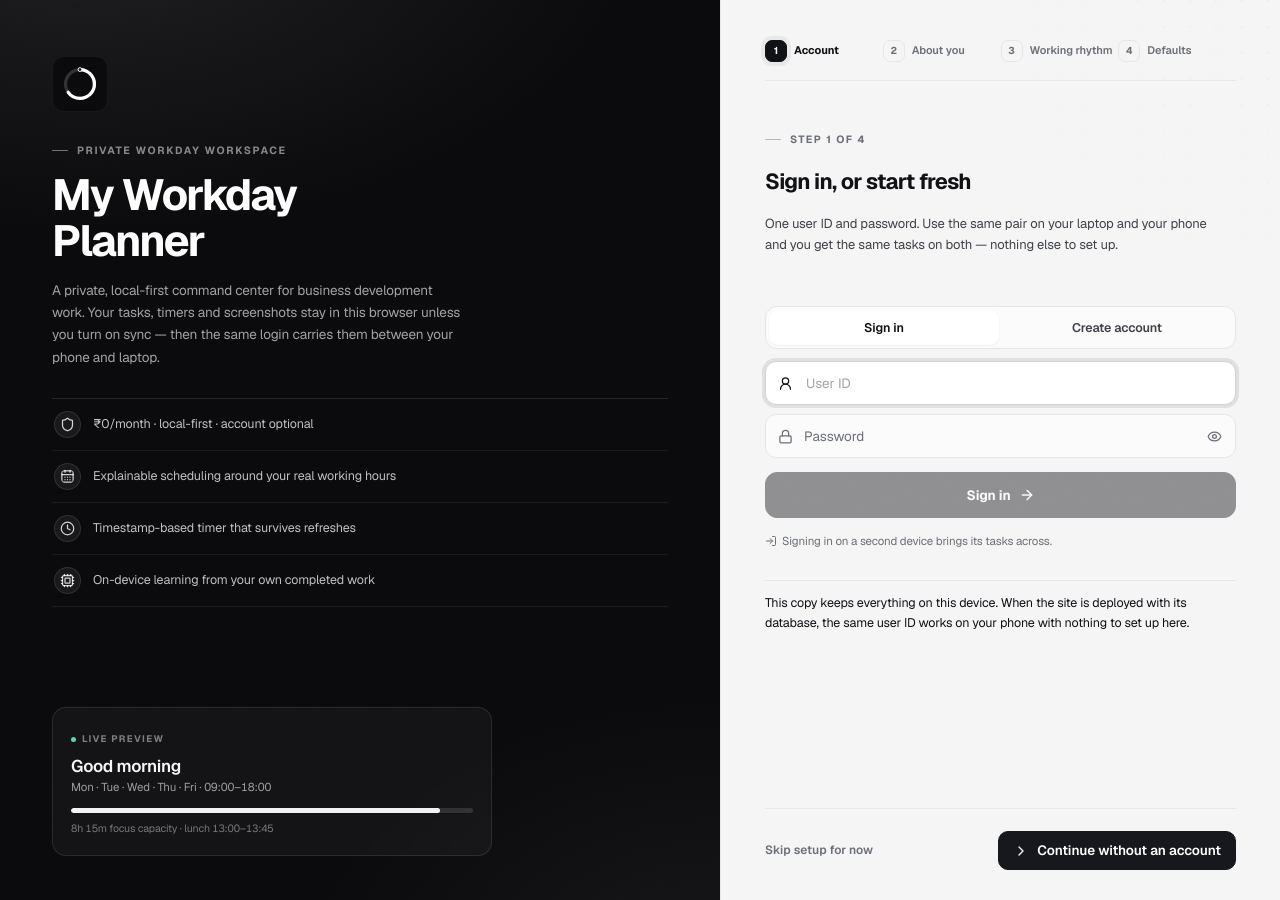
Test case: Onboarding — account step › still allows skipping the account entirely
Click the button "Continue without an account" at (1117,851), box x1=998 y1=831 x2=1236 y2=870
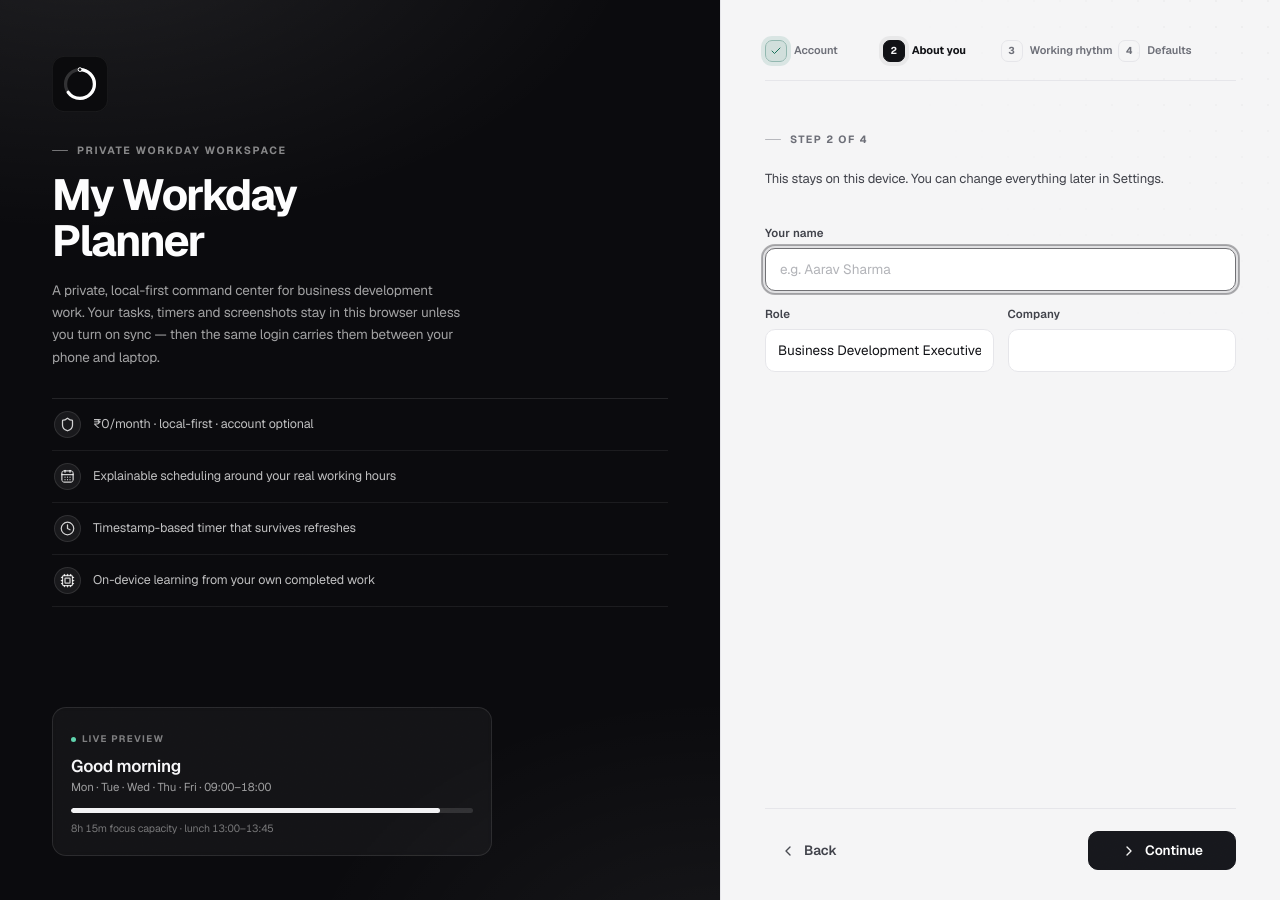
Now the field labelled "Your name" is shown, box x1=765 y1=248 x2=1236 y2=291
